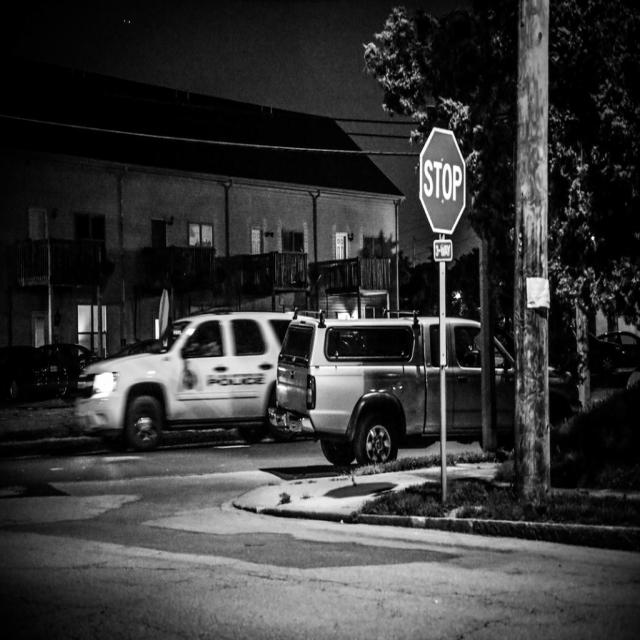Stop-sign: (418, 126, 466, 237)
